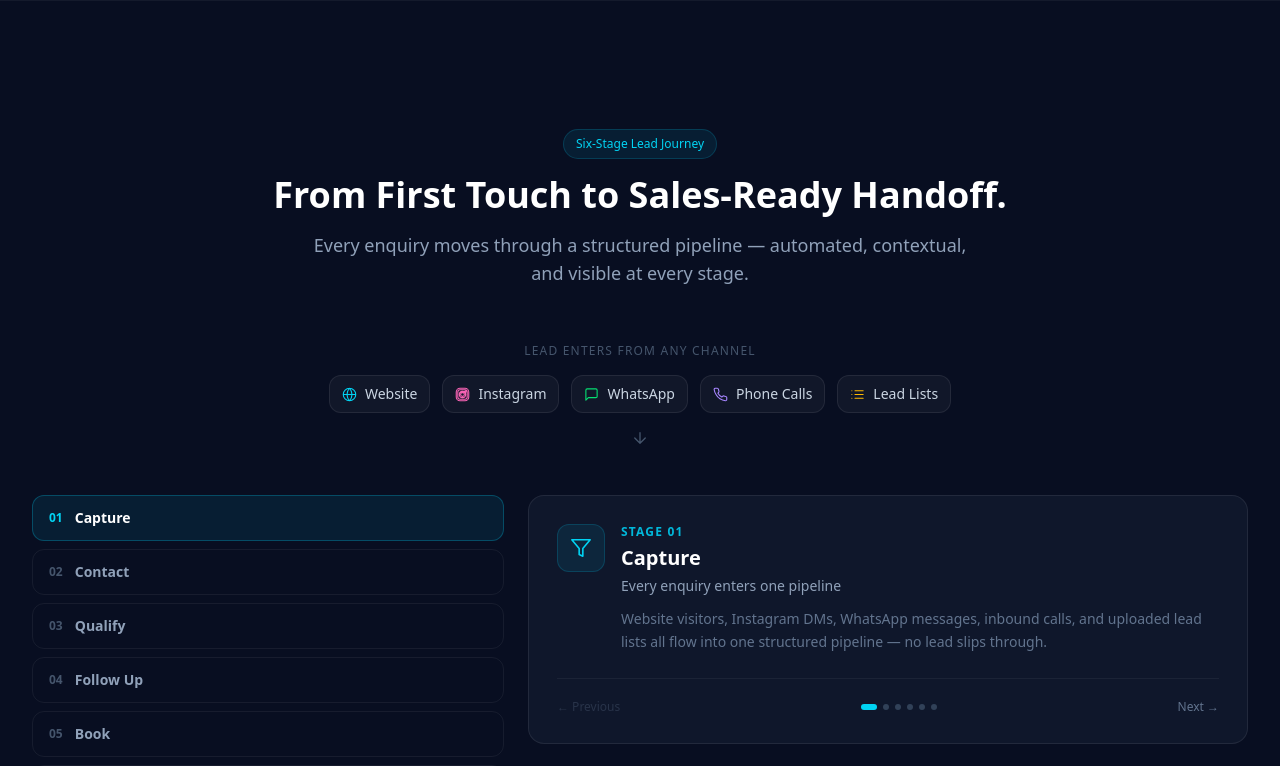
Test: Workflow › navigates forward with the Next button
The image size is (1280, 766).
Click the button "Next →".
click(1198, 706)  # box [1178,698,1219,714]
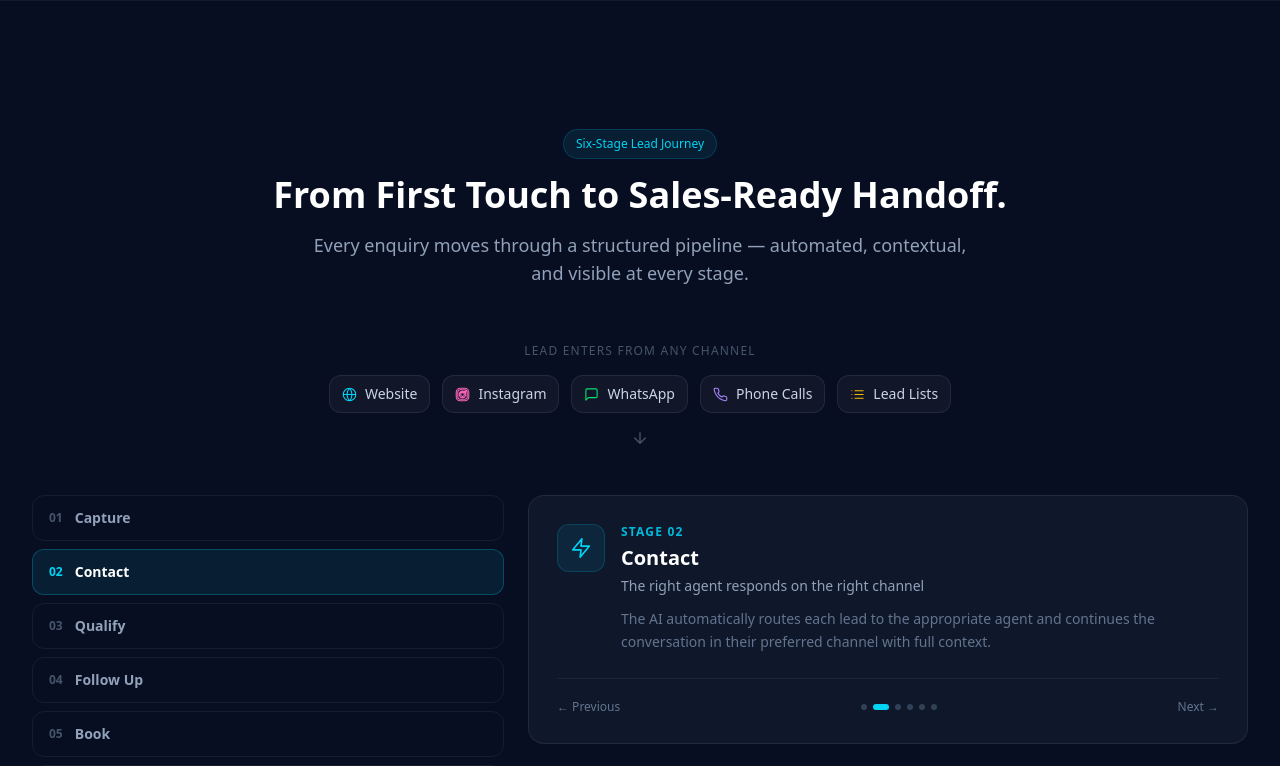
Result: the text "The AI automatically routes each lead to the appropriate agent and continues the conversation in their preferred channel" is shown at [621,609,1155,651]
